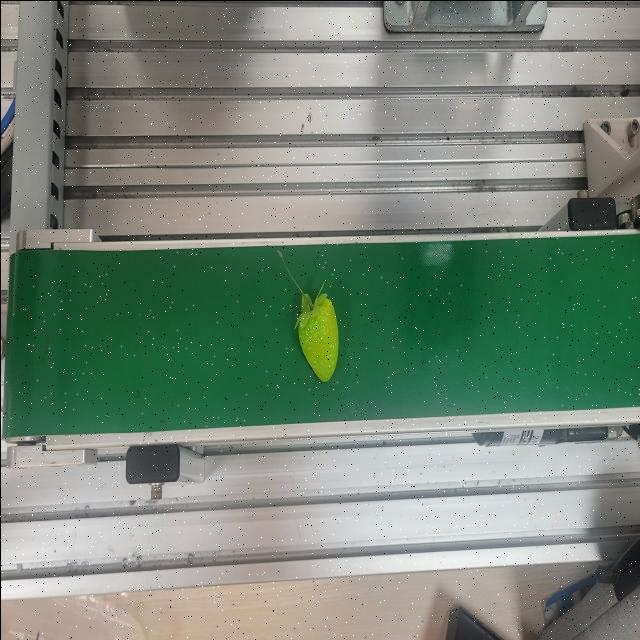Small Unripe Strawberry: (292, 284, 340, 386)
